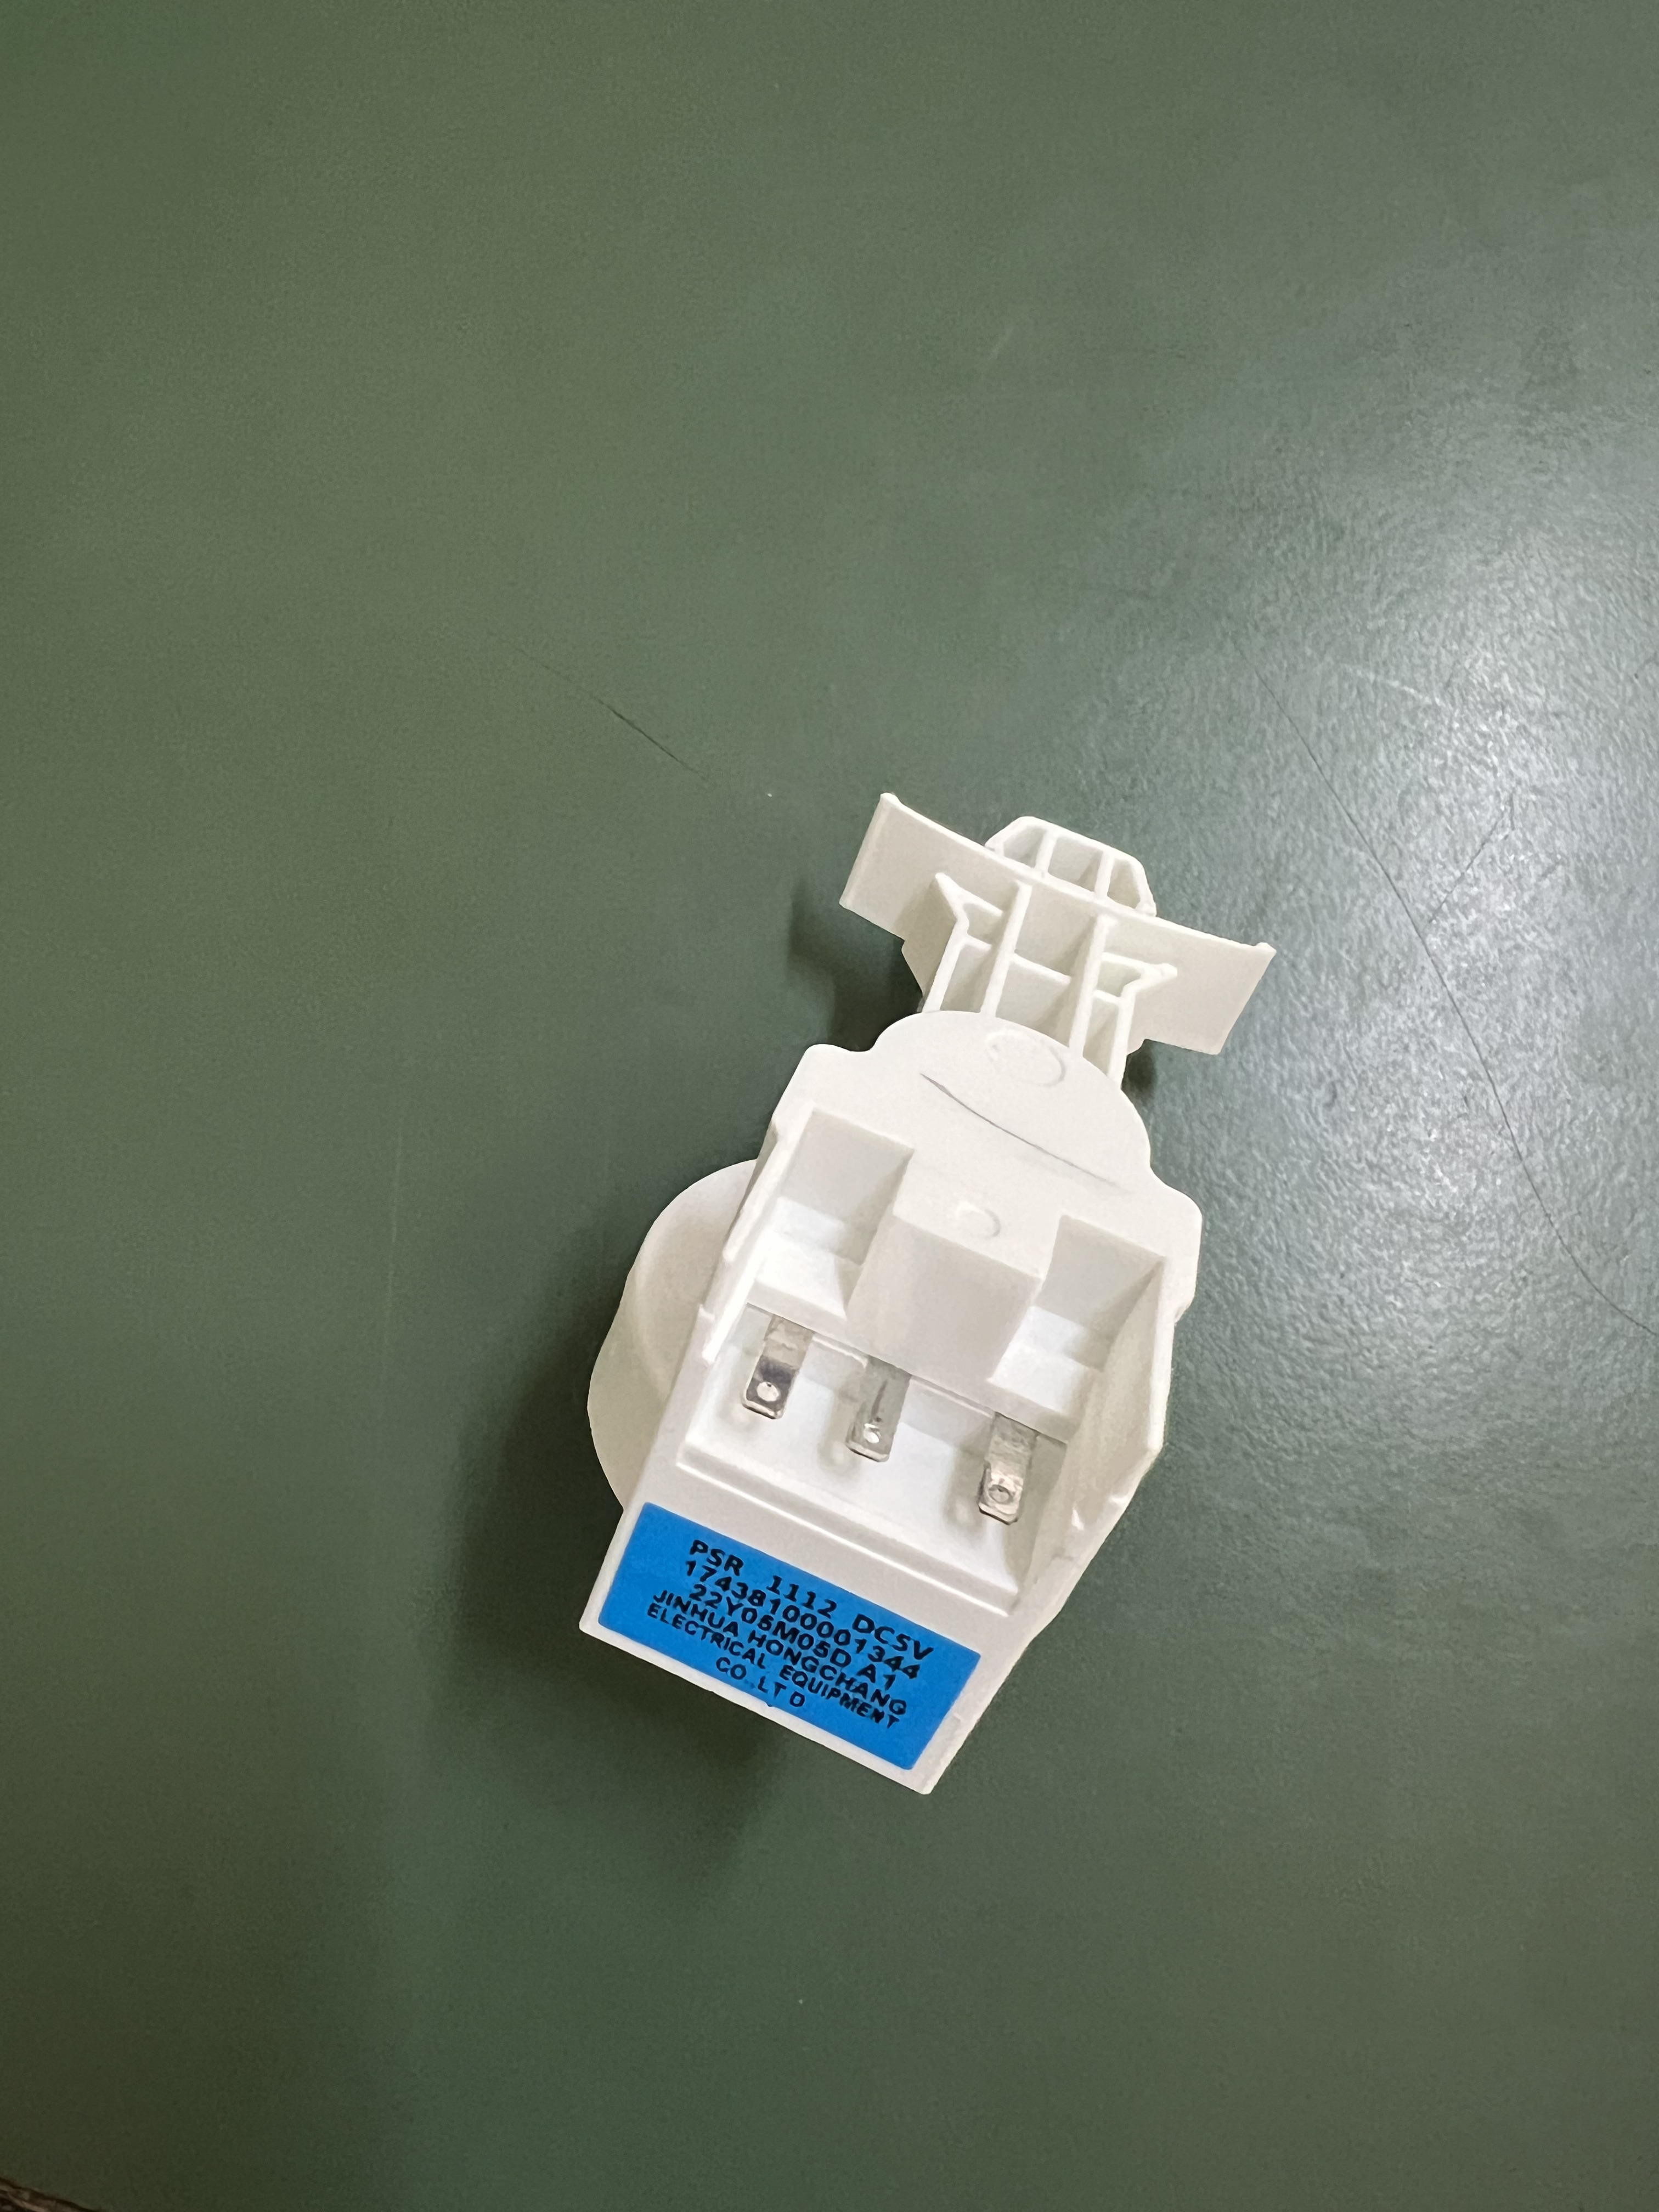pressure_switch_1: (565, 787, 1269, 1791)
